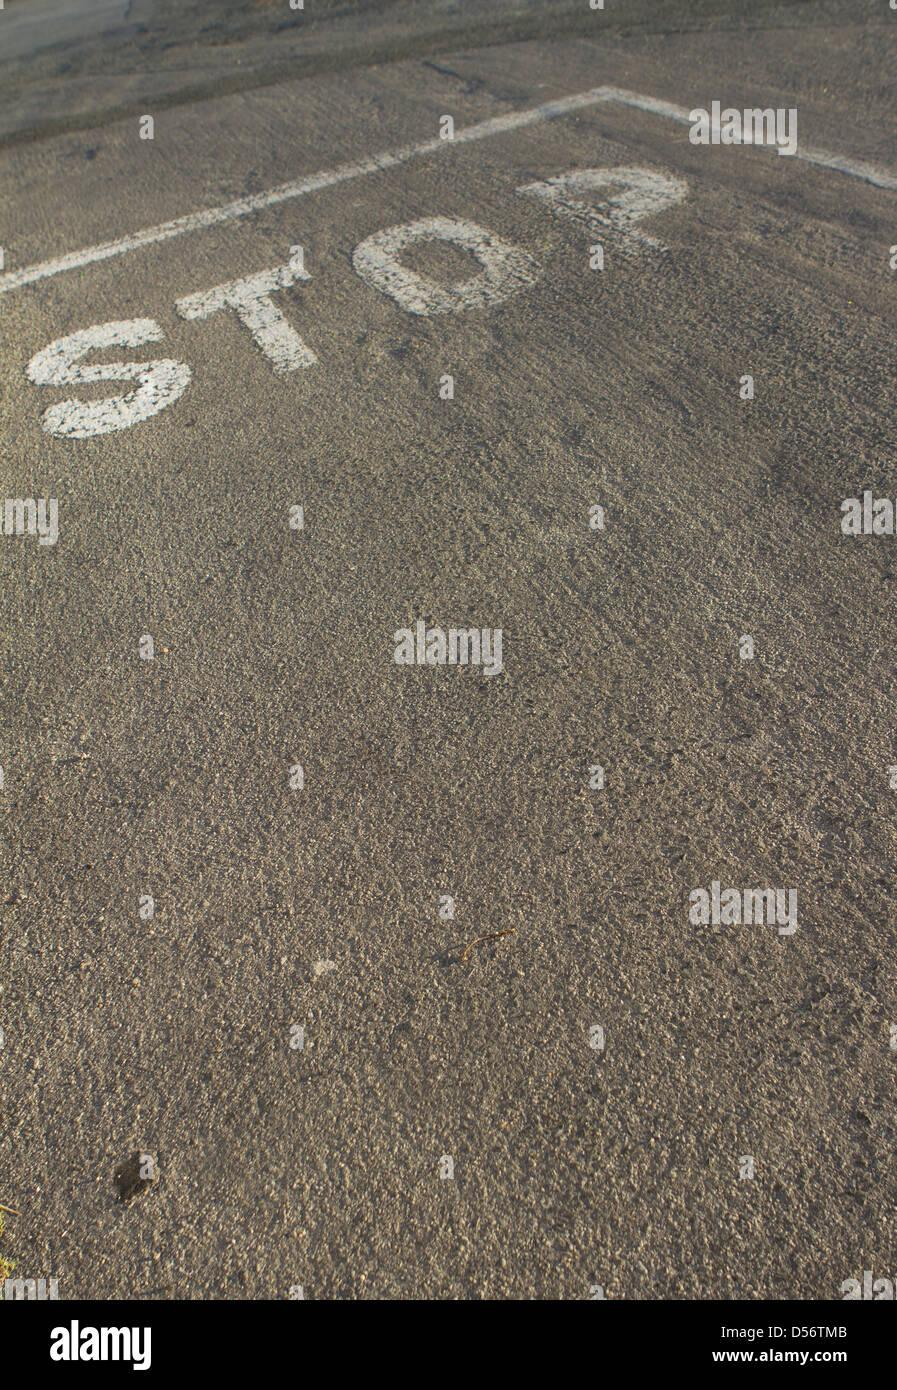faded_road_lines: (0, 86, 896, 295), (27, 320, 190, 439), (352, 218, 542, 317), (177, 246, 316, 374), (522, 168, 686, 258)
